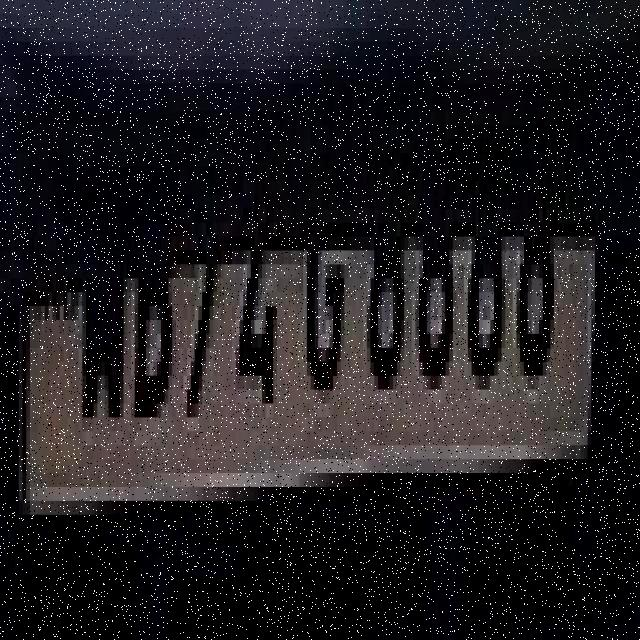licenseplate: (20, 132, 599, 512)
